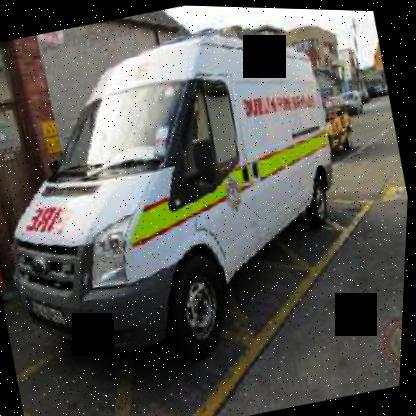emergency: (0, 0, 400, 366)
